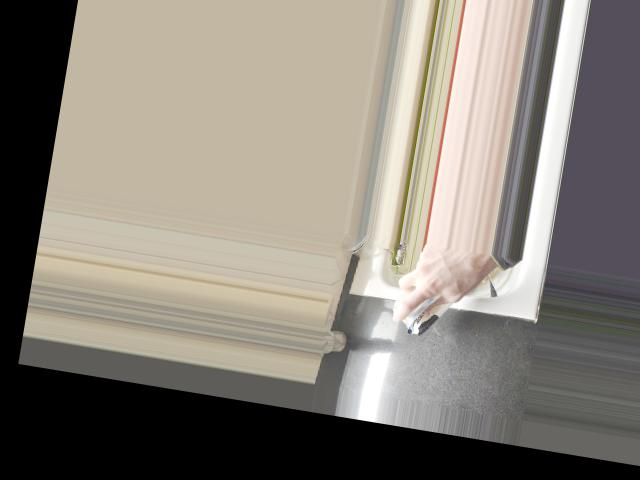cheese: (393, 246, 473, 345)
